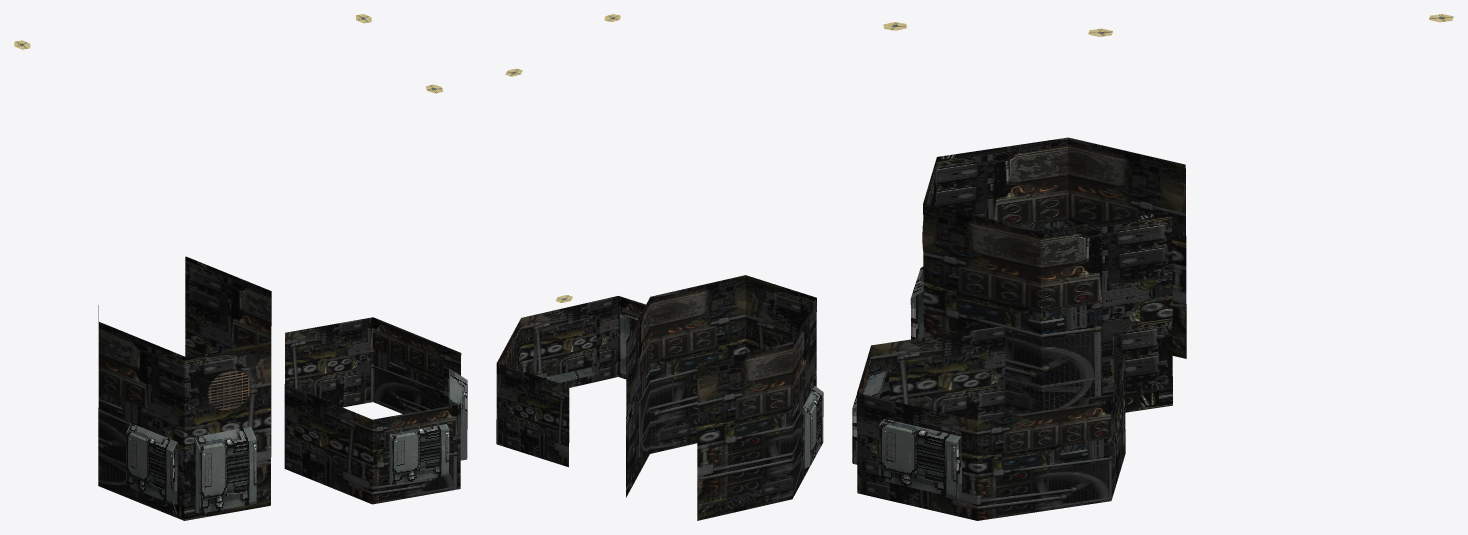
Rendered from site_09.glb.
The picture shows the model from 3 angles, left to right: view 1: azimuth 30°, elevation 25°; view 2: azimuth 150°, elevation 25°; view 3: azimuth 270°, elevation 25°; orthographic projection. The views are drawn at different scales.
Visible parts, largest first — view 1: CHR_1B.295_mat_103.002_0, CHR_1B.284_mat_101.003_0, CHR_1B.364_mat_115.002_0; view 2: CHR_1B.295_mat_103.002_0, CHR_1B.284_mat_101.003_0; view 3: CHR_1B.295_mat_103.002_0, CHR_1B.284_mat_101.003_0.
Boxes of the visible parts, x1=… form: CHR_1B.295_mat_103.002_0: x1=98, y1=256, x2=461, y2=520; CHR_1B.284_mat_101.003_0: x1=126, y1=368, x2=467, y2=513; CHR_1B.364_mat_115.002_0: x1=207, y1=370, x2=251, y2=410; CHR_1B.295_mat_103.002_0: x1=496, y1=275, x2=816, y2=520; CHR_1B.284_mat_101.003_0: x1=533, y1=314, x2=823, y2=469; CHR_1B.295_mat_103.002_0: x1=857, y1=137, x2=1186, y2=520; CHR_1B.284_mat_101.003_0: x1=852, y1=266, x2=961, y2=497.
Bounding box in the file's own units: 70.82 × 82.24 × 96.57.
Materials: 4 (4 with a texture image).
